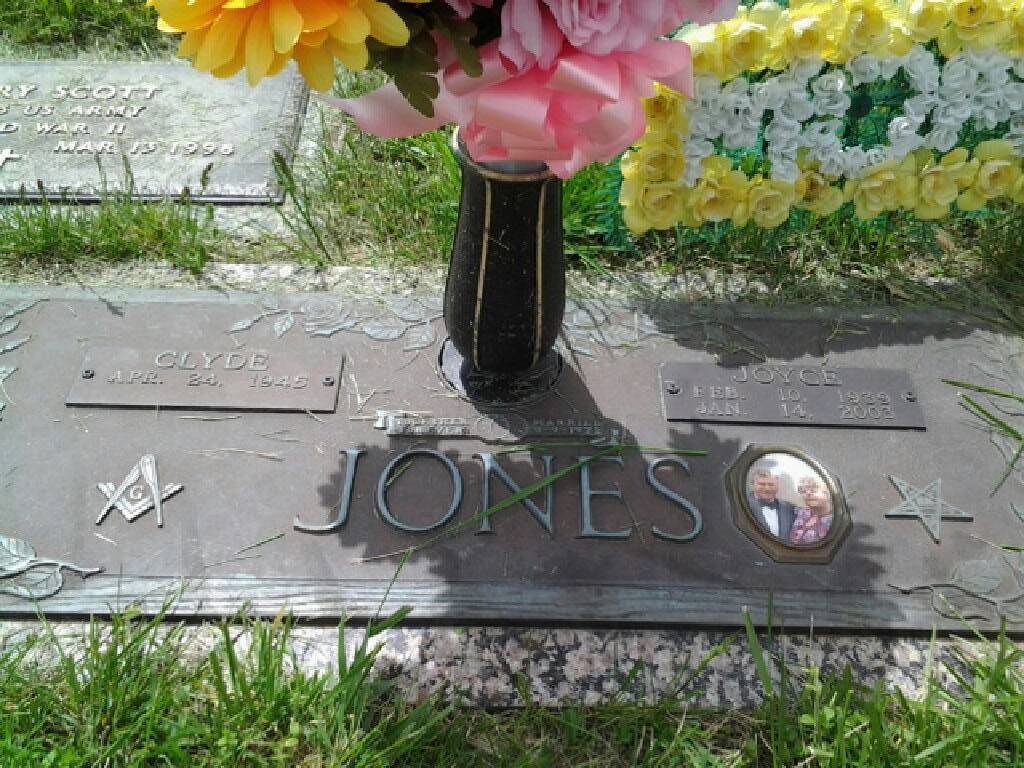flat: (0, 259, 1024, 656)
